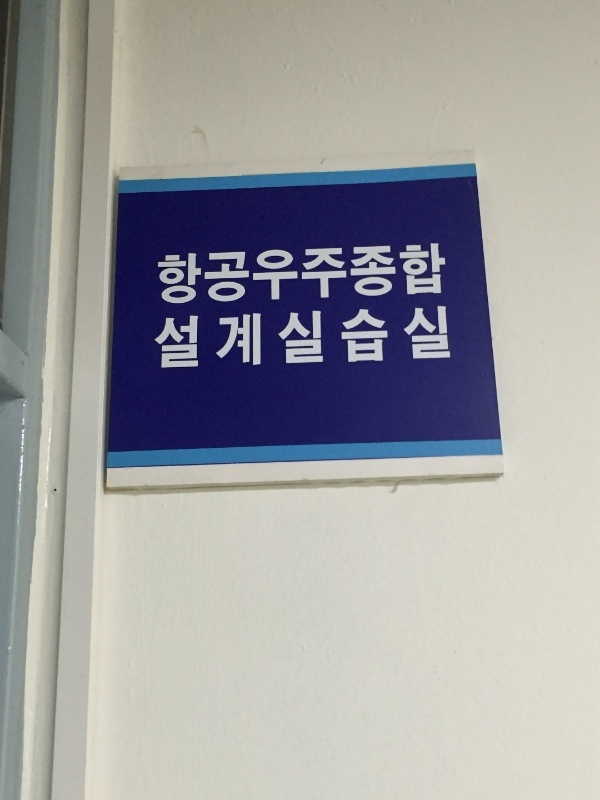text: (161, 303, 176, 373), (177, 303, 192, 373), (193, 303, 208, 373), (209, 303, 224, 373), (225, 303, 240, 373), (241, 303, 256, 373), (257, 303, 272, 373), (273, 303, 288, 373), (289, 303, 304, 373), (305, 303, 320, 373), (321, 303, 336, 373), (337, 303, 352, 373), (353, 303, 368, 373), (369, 303, 384, 373), (385, 303, 400, 373), (401, 303, 416, 373), (417, 303, 432, 373), (433, 303, 448, 373), (161, 242, 176, 307), (177, 242, 192, 307), (193, 242, 208, 307), (209, 242, 224, 307), (225, 242, 240, 307), (241, 242, 256, 307), (257, 242, 272, 307), (273, 242, 288, 307), (289, 242, 304, 307), (305, 242, 320, 307), (321, 242, 336, 307), (337, 242, 352, 307), (353, 242, 368, 307), (369, 242, 384, 307), (385, 242, 400, 307), (401, 242, 416, 307), (417, 242, 432, 307), (433, 242, 448, 307), (155, 303, 160, 373), (449, 303, 453, 373), (157, 242, 160, 307)
